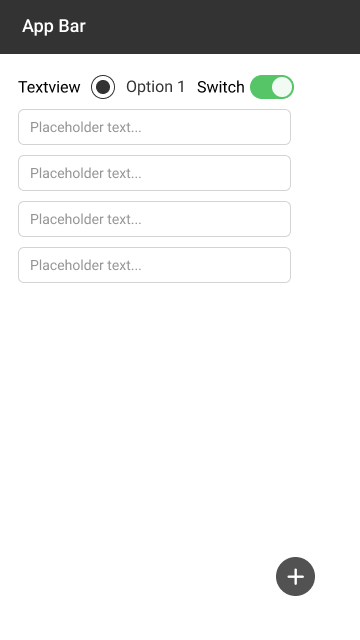editText: (15, 152, 294, 194), (15, 199, 294, 240), (17, 107, 293, 148), (15, 246, 295, 283)
floatingButton: (273, 555, 316, 598)
radioButton: (89, 73, 187, 101)
switch: (197, 74, 295, 100)
textView: (14, 76, 84, 98)
toolbar: (1, 1, 360, 55)
